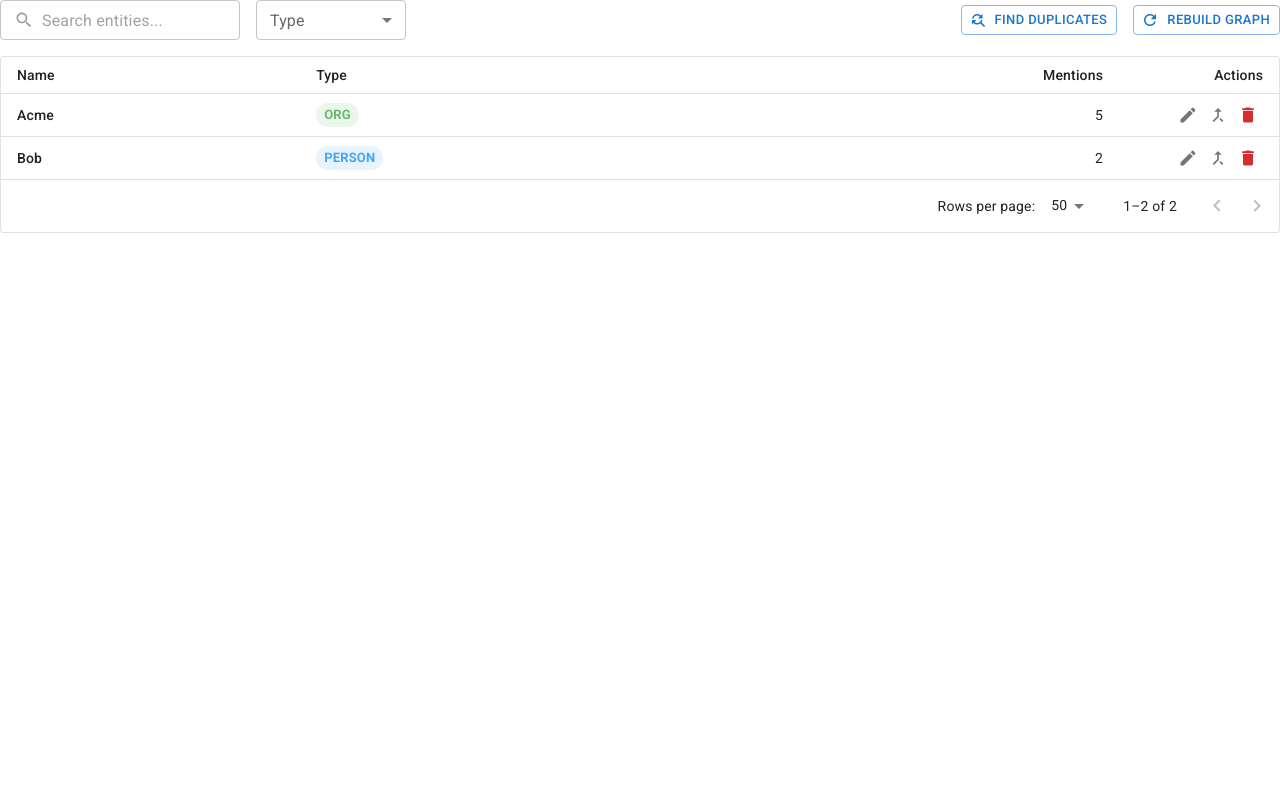
Test: EntitiesPanel row actions › rename dialog patches the new name
Expected: the text "Acme" is shown, [1,94,300,136]
Step 1. Click the button with test id "EditIcon" → (1188,115), box [1173,100,1203,130]
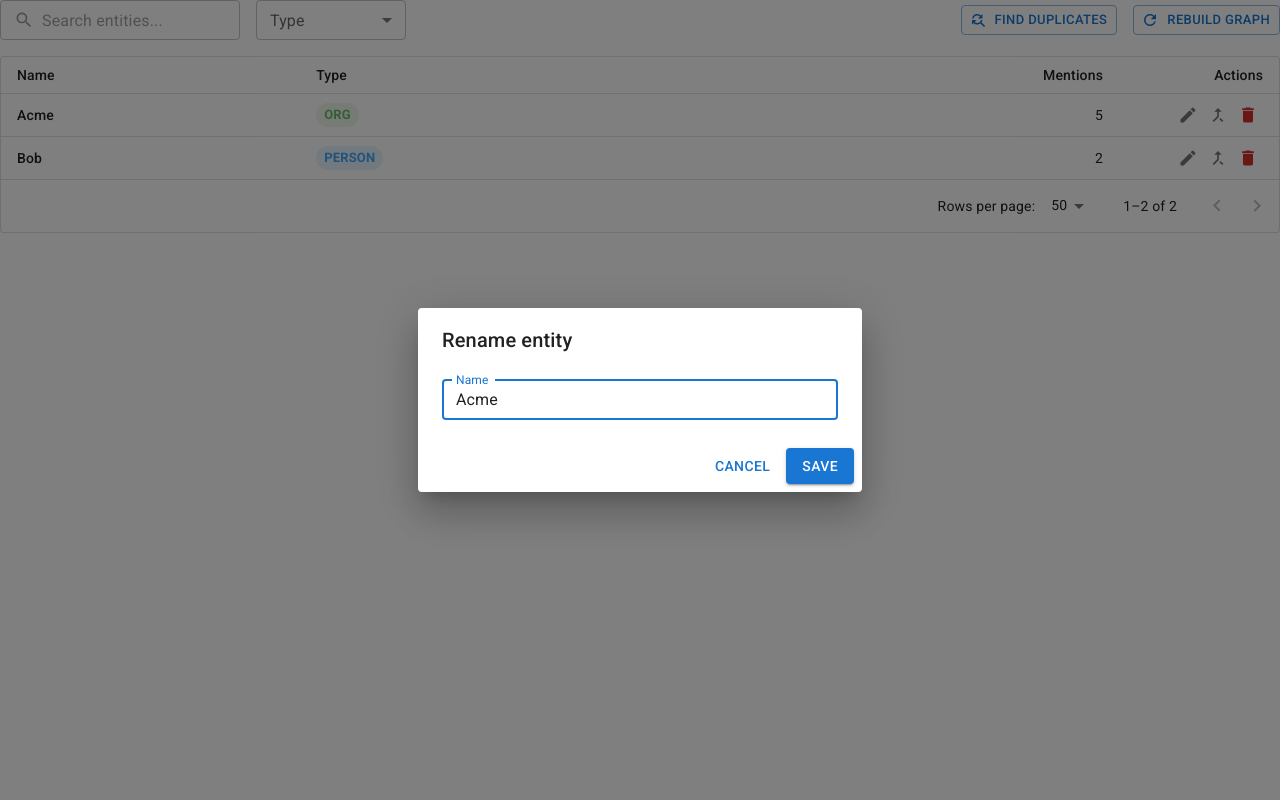
Step 2. Replace the text in the field labelled "Name" with "ACME Corp" → (640,400), box [442,380,838,420]
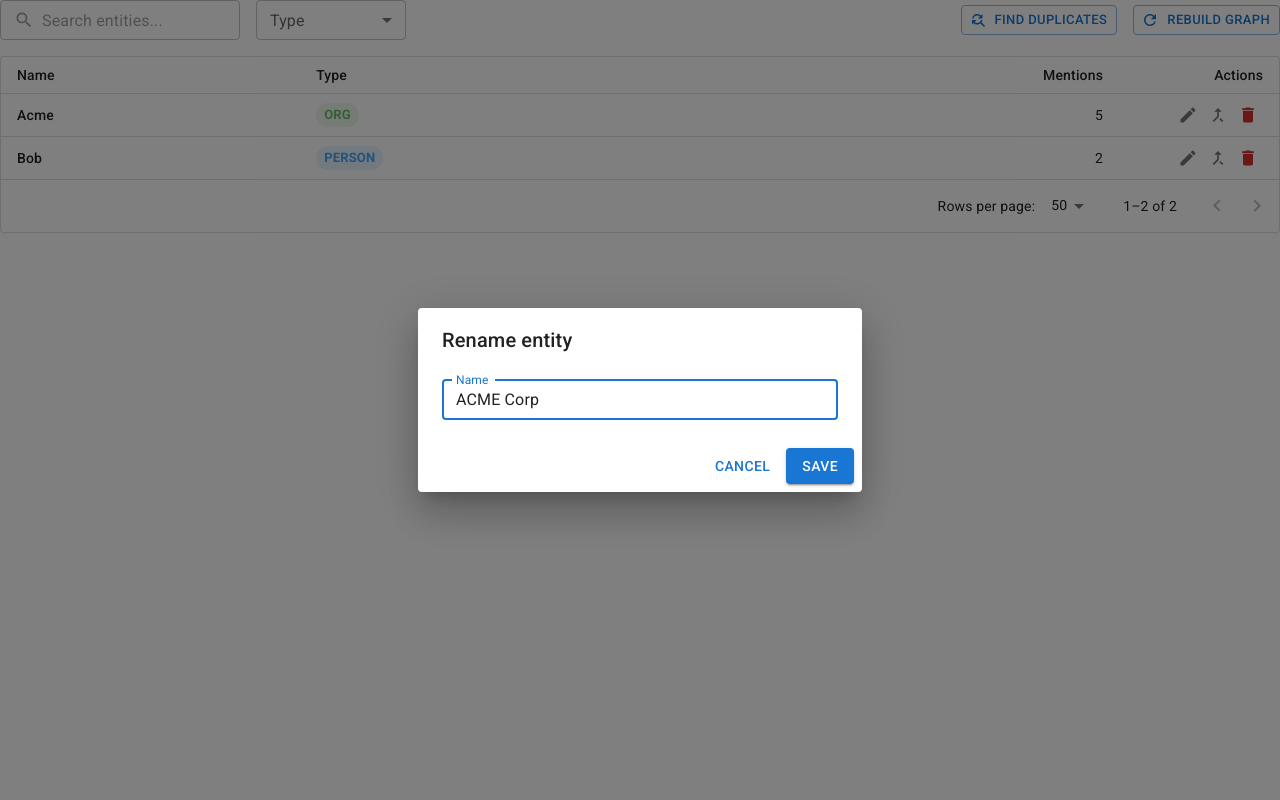
Step 3. Click the button "Save" → (820,466), box [786,448,854,484]
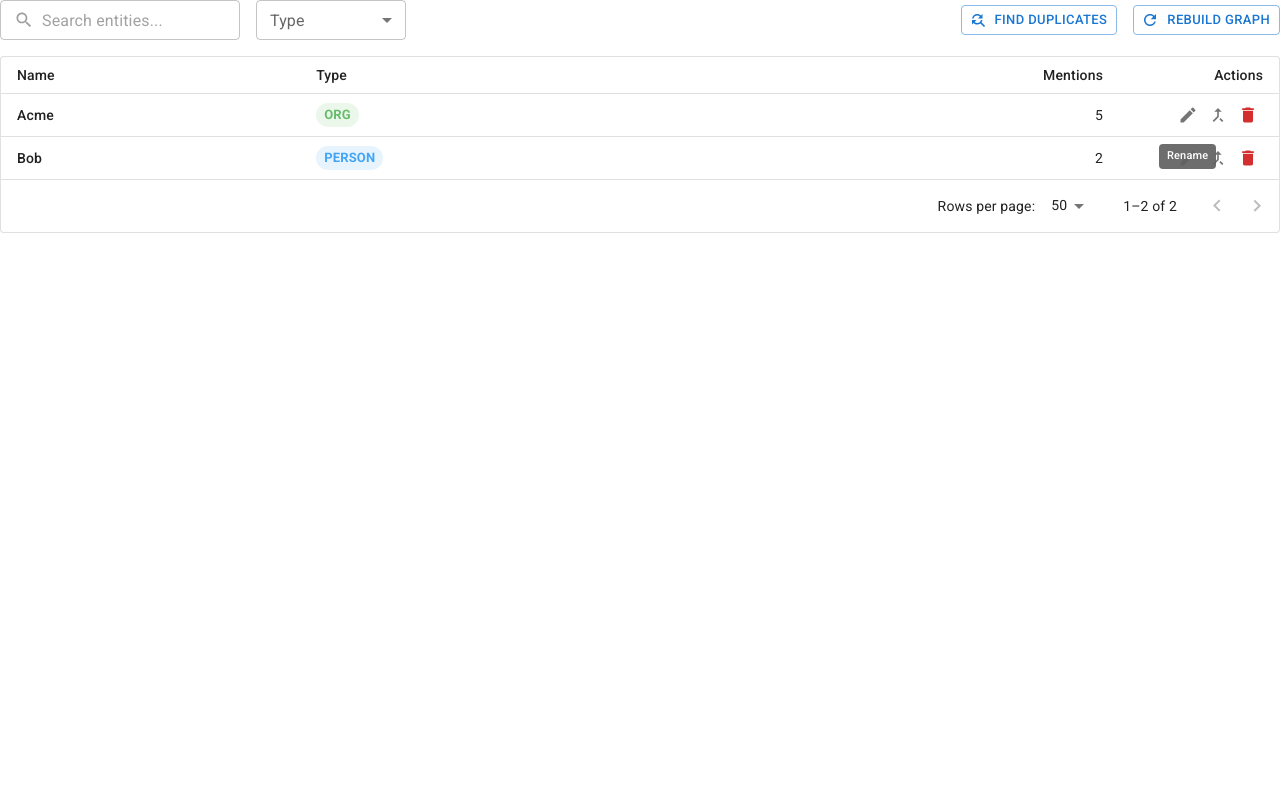
Expected: the button "Save" is gone
